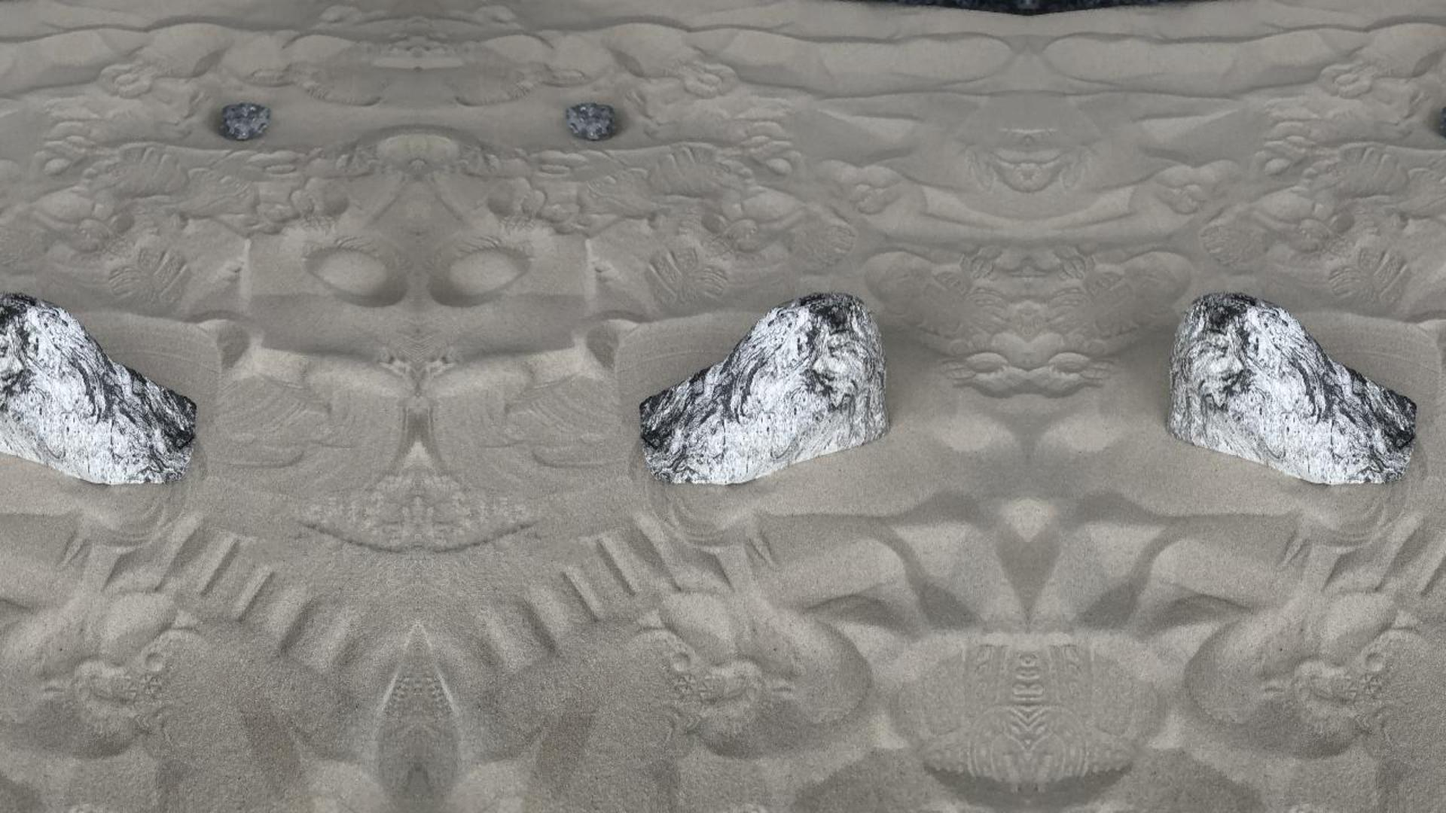rock: (639, 292, 887, 483), (1168, 292, 1415, 483), (0, 292, 195, 483), (565, 102, 616, 140), (219, 103, 270, 140), (1437, 106, 1445, 138)
